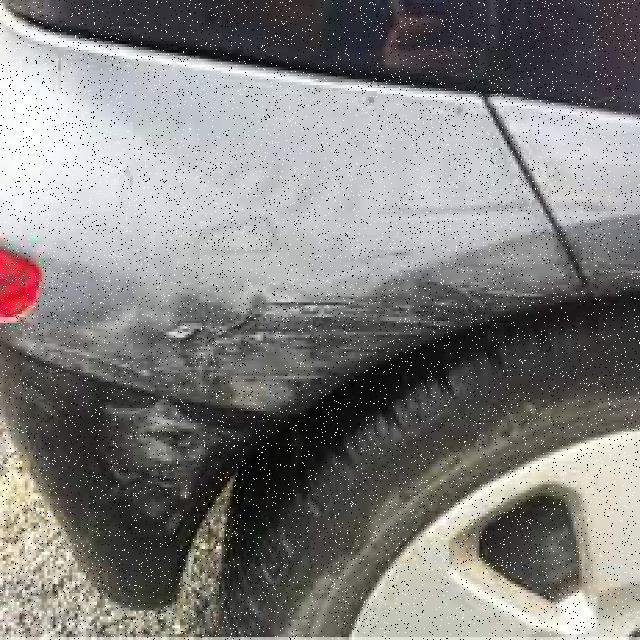rear-bumper-dent: (0, 35, 582, 608)
